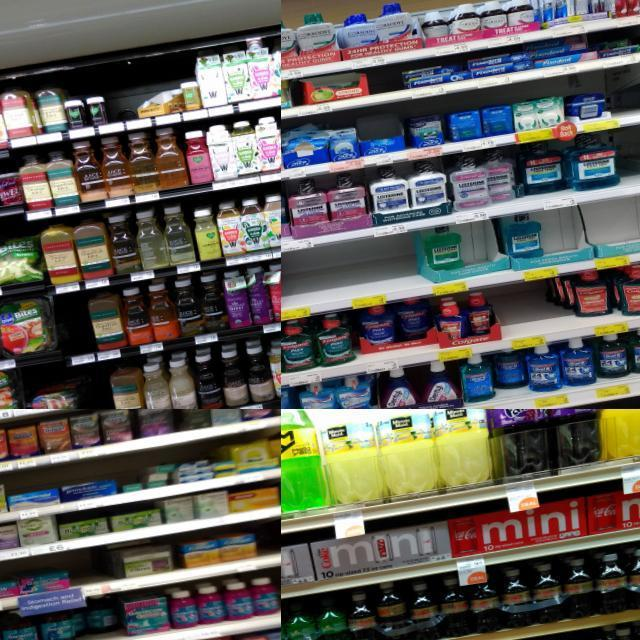empty: (340, 236, 420, 308), (281, 246, 348, 318), (496, 281, 550, 350), (66, 298, 96, 364), (615, 131, 640, 194), (72, 550, 105, 597), (104, 82, 134, 132), (366, 64, 404, 102), (608, 80, 636, 126), (254, 521, 281, 568), (86, 374, 117, 409)
